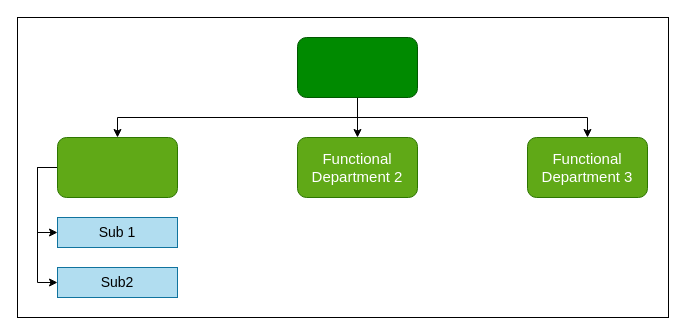
This 686x335 diagram has some shape labels left out. The box of each missing label's shape, as (x1, y1, x2, y2) in pixels:
Functional Department 1: (56, 136, 178, 198)
Valuation: (296, 36, 418, 98)
